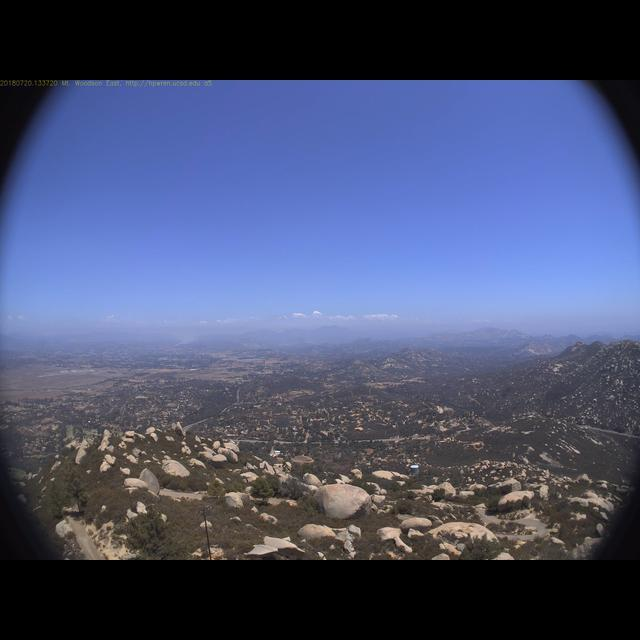Smoke: (513, 332, 579, 358)
